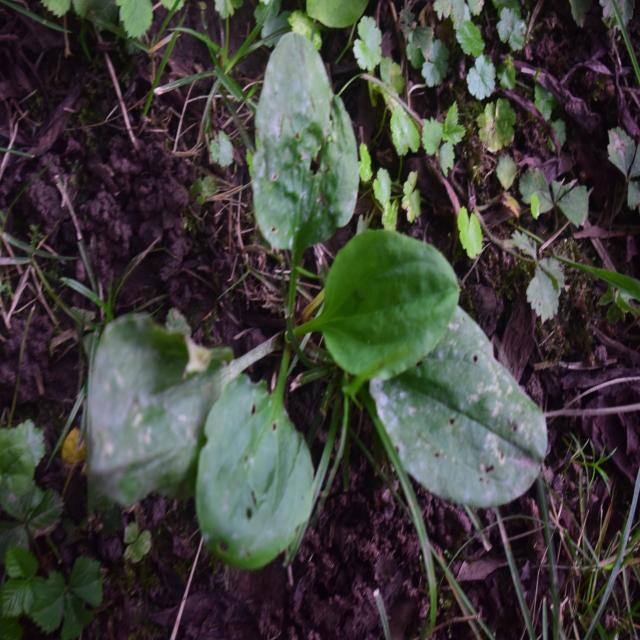plantain: (71, 73, 542, 560)
